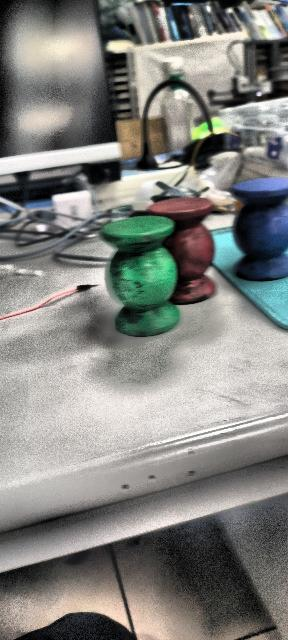blue: (230, 176, 288, 280)
green: (96, 216, 181, 339)
red: (151, 200, 216, 309)
